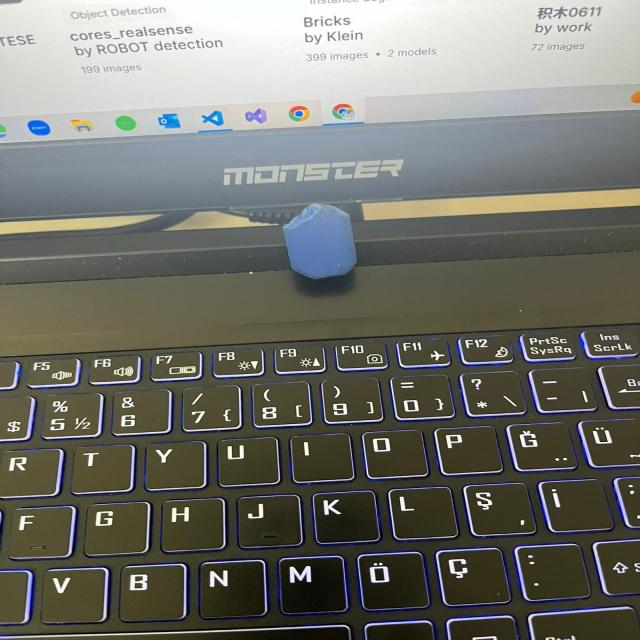eraser: (282, 200, 366, 282)
